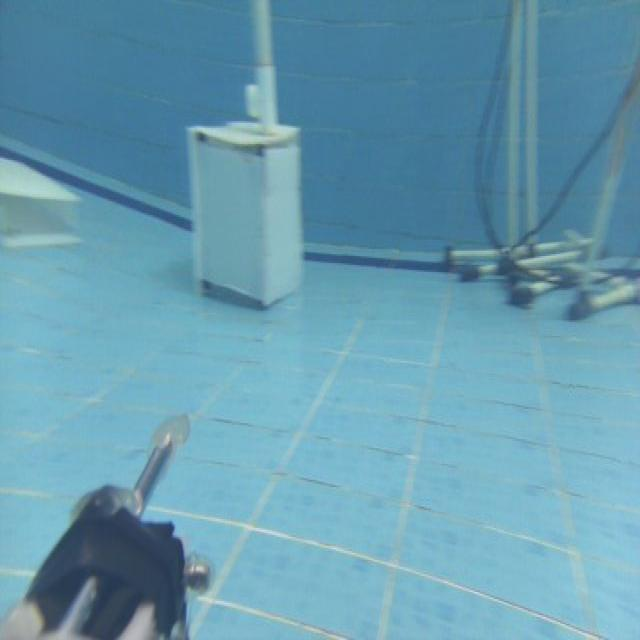Cube: (185, 114, 305, 309)
Cuboid: (0, 144, 87, 254)
